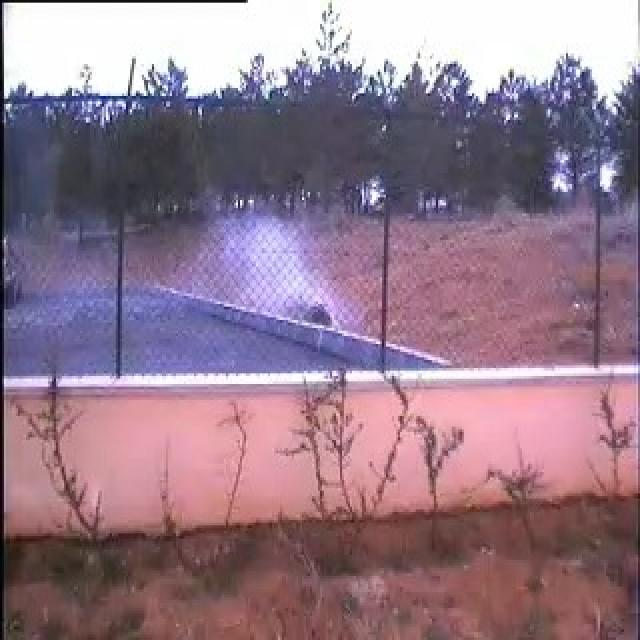smoke: (67, 214, 379, 370)
